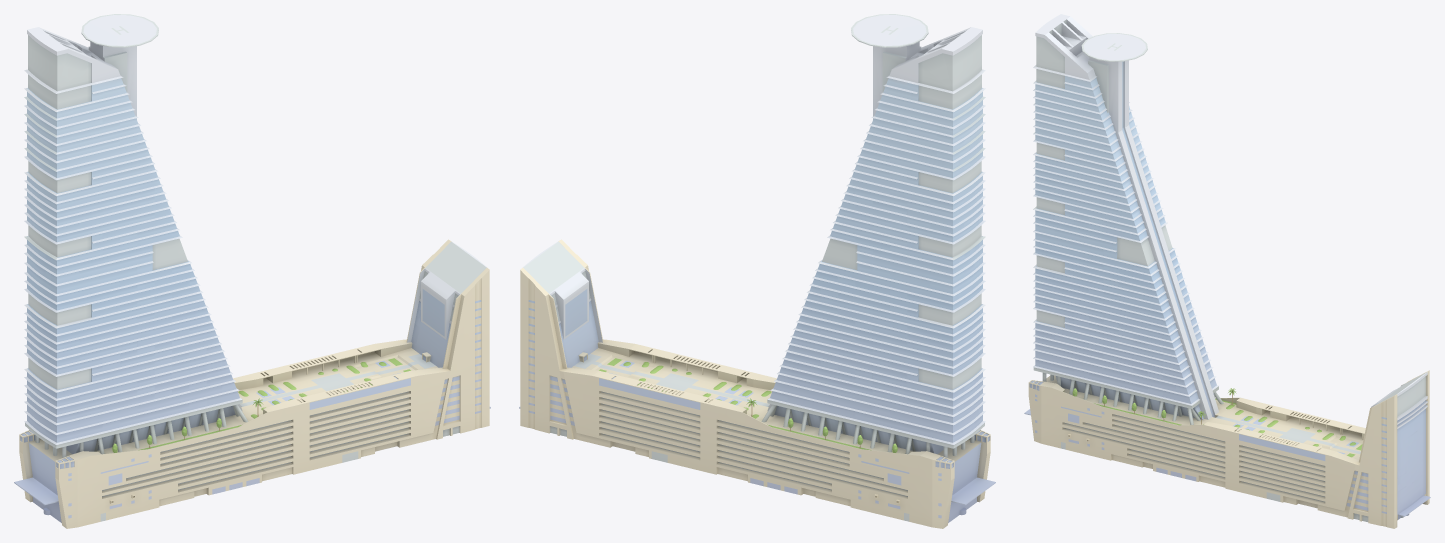
File: KSA-37.glb
3 views of the same model, side by side, from view 1: azimuth 30°, elevation 25°; view 2: azimuth 150°, elevation 25°; view 3: azimuth 330°, elevation 25° (orthographic). The views are drawn at different scales.
Visible parts, largest first — view 1: savolatower_baked; view 2: savolatower_baked; view 3: savolatower_baked.
Boxes of the visible parts, bbox=[...] form: savolatower_baked: bbox=[14, 14, 490, 528]; savolatower_baked: bbox=[519, 14, 995, 528]; savolatower_baked: bbox=[1024, 14, 1430, 528].
Size of the model in its own units: 236 by 240 by 42.
3 materials, 3 textured.
